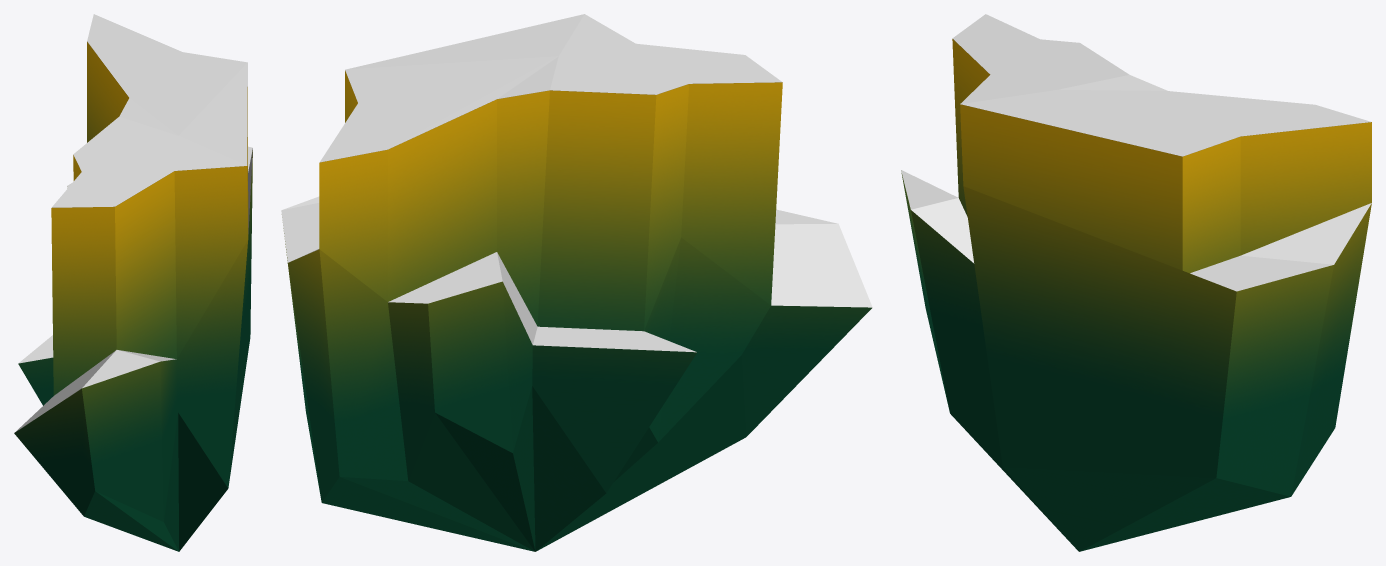
The model's file is MOD_FLOATING_Island4.fbx.
3 views of the same model, side by side, from view 1: azimuth 30°, elevation 25°; view 2: azimuth 150°, elevation 25°; view 3: azimuth 270°, elevation 25° (orthographic). The views are drawn at different scales.
Parts seen in each view (by area): view 1: MOD_FLOATING_Isalnd4; view 2: MOD_FLOATING_Isalnd4; view 3: MOD_FLOATING_Isalnd4.
Boxes of the visible parts, x1,y1,x2,y2 form: MOD_FLOATING_Isalnd4: (14,14,252,551); MOD_FLOATING_Isalnd4: (281,14,872,551); MOD_FLOATING_Isalnd4: (901,14,1371,551).
Size of the model in its own units: 3.52 by 3.82 by 3.56.
Materials: 2 (1 with a texture image).
